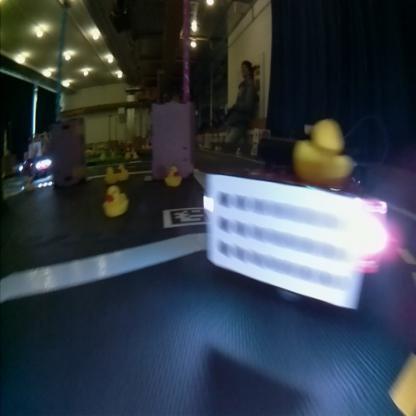Duckie: (294, 121, 353, 180), (104, 186, 128, 216), (166, 166, 182, 184), (118, 162, 128, 180), (106, 166, 116, 182)
Duckiebot: (208, 166, 388, 308), (20, 157, 52, 178)
QR code: (168, 207, 204, 225)
